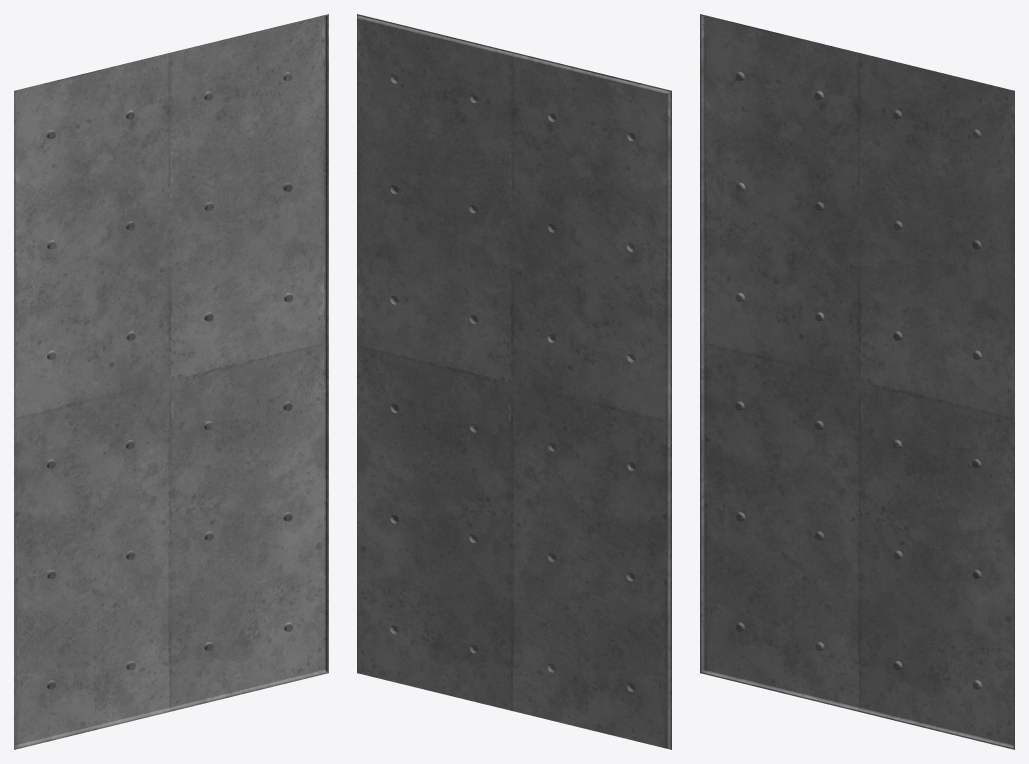
Rendered from SM_Wall_18.fbx.
3 renders of one model, left to right at view 1: azimuth 30°, elevation 25°; view 2: azimuth 150°, elevation 25°; view 3: azimuth 330°, elevation 25°, orthographic.
Visible parts, largest first — view 1: SM_Wall_18; view 2: SM_Wall_18; view 3: SM_Wall_18.
Boxes of the visible parts, x1,y1,x2,y2 form: SM_Wall_18: (14,14,328,749); SM_Wall_18: (357,14,671,749); SM_Wall_18: (700,14,1014,749).
Size of the model in its own units: 200 by 400 by 1.98.
